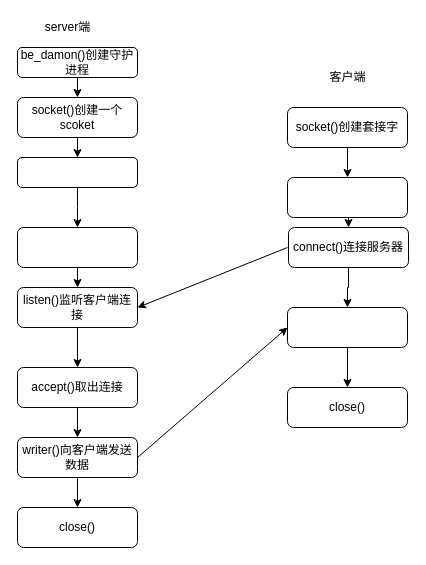
This 426x565 diagram has some shape labels left out. Here are the shapes that lost their labels. From the top down, the centre of each, then its label:
At pixel 77 172: "sockaddr_in()准备sockaddr数据".
At pixel 347 197: "sockaddr_in ()设置网络地址".
At pixel 77 247: "bind()绑定ip地址".
At pixel 347 327: "buffer()读取信息".
